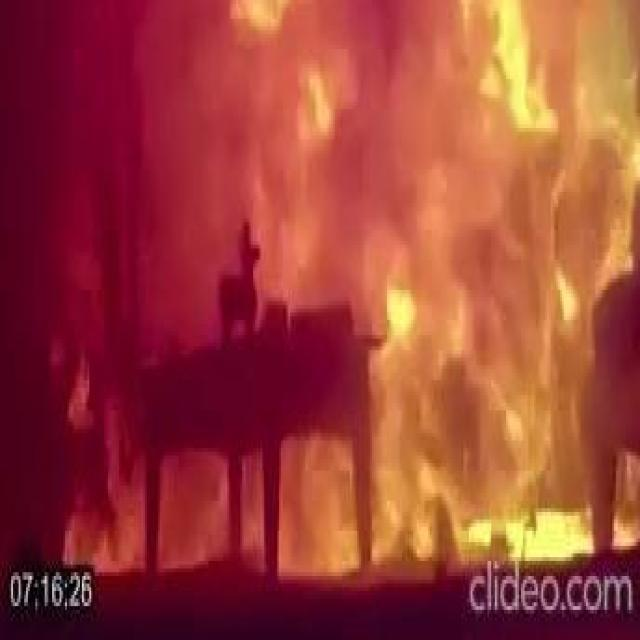smoke: (355, 0, 639, 331), (134, 0, 356, 301), (374, 350, 594, 550), (60, 358, 146, 576), (279, 452, 357, 568), (163, 452, 230, 561)
